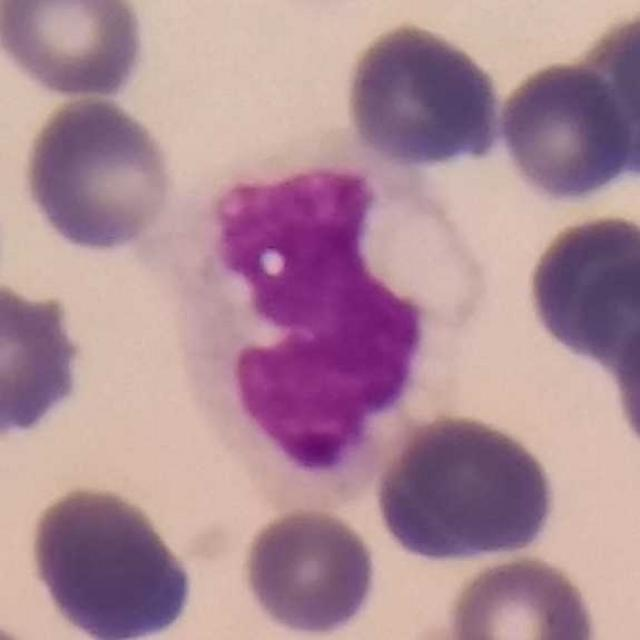Monocyte: (149, 133, 491, 497)
RBC: (370, 410, 563, 568), (23, 479, 200, 640), (17, 92, 179, 258), (340, 18, 508, 172), (493, 56, 638, 208), (520, 210, 640, 375), (237, 503, 382, 639), (0, 273, 92, 447), (0, 0, 151, 101), (562, 3, 639, 200), (443, 552, 601, 640), (604, 270, 640, 478), (255, 0, 404, 20)
